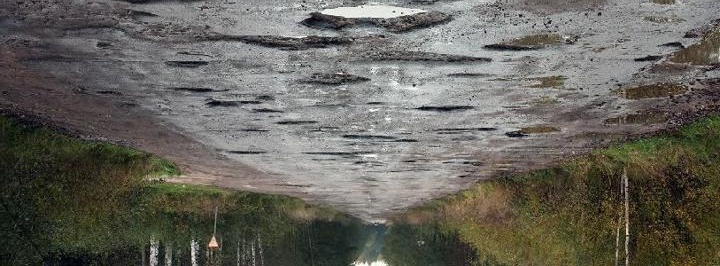pothole: (0, 0, 160, 34), (301, 4, 459, 36), (632, 17, 720, 72), (335, 51, 492, 67), (479, 28, 576, 53), (292, 73, 374, 87), (502, 125, 561, 139), (204, 95, 261, 108), (413, 104, 476, 114), (163, 56, 209, 69), (342, 131, 394, 142), (174, 83, 220, 94)
